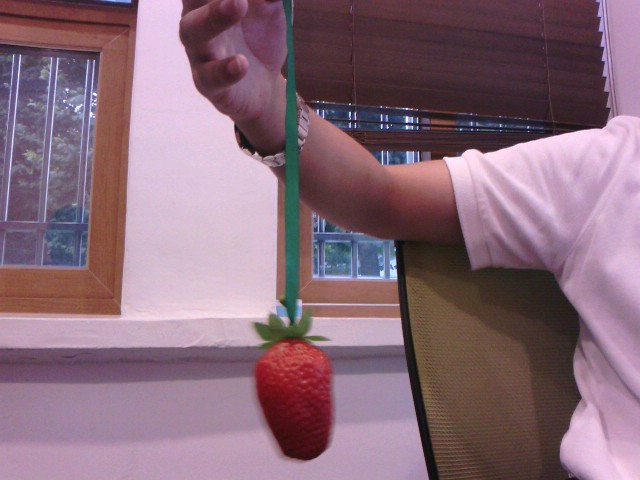strawberry: (250, 330, 339, 462)
